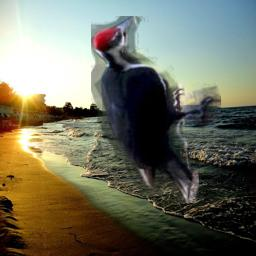Woodpecker: (91, 16, 221, 203)
